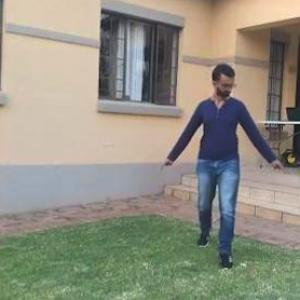land: (162, 67, 287, 272)
